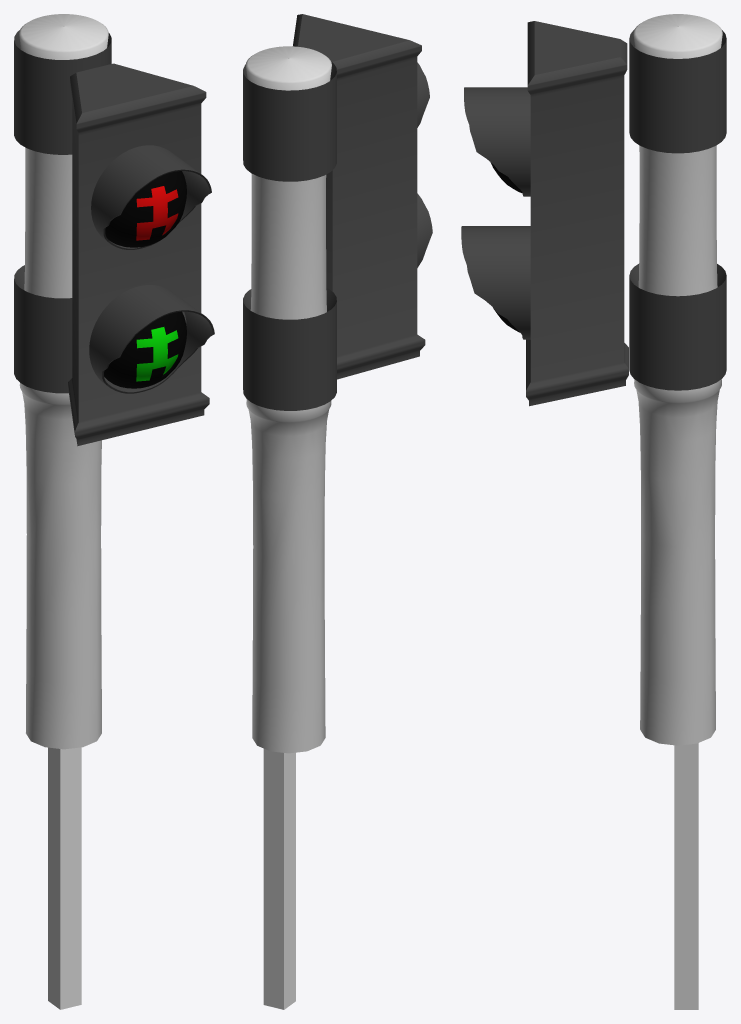
Rendered from pedestrial_light.fbx.
3 views of the same model, side by side, from view 1: azimuth 30°, elevation 25°; view 2: azimuth 150°, elevation 25°; view 3: azimuth 270°, elevation 25° (orthographic). The views are drawn at different scales.
Visible parts, largest first — view 1: nurbsToPoly1, planarTrimmedSurface1 group1, Cube, pTorus3, pTorus2, pCylinder3, pCylinder1, group1 pSphere3, group1 pSphere3.002, group1 pSphere3.001, group1 pSphere1; view 2: nurbsToPoly1, planarTrimmedSurface1 group1, pTorus2, pTorus3, Cube, pCylinder3, pCylinder1; view 3: nurbsToPoly1, planarTrimmedSurface1 group1, pTorus2, pTorus3, Cube, pCylinder3, pCylinder1.
Boxes of the visible parts, x1=… form: nurbsToPoly1: x1=19, y1=14, x2=108, y2=749; planarTrimmedSurface1 group1: x1=68, y1=63, x2=209, y2=446; Cube: x1=48, y1=747, x2=81, y2=1009; pTorus3: x1=14, y1=30, x2=111, y2=154; pTorus2: x1=14, y1=265, x2=72, y2=393; pCylinder3: x1=89, y1=285, x2=214, y2=393; pCylinder1: x1=91, y1=145, x2=211, y2=249; group1 pSphere3: x1=105, y1=171, x2=186, y2=247; group1 pSphere3.002: x1=104, y1=311, x2=186, y2=388; group1 pSphere3.001: x1=136, y1=186, x2=178, y2=240; group1 pSphere1: x1=136, y1=327, x2=178, y2=381; nurbsToPoly1: x1=245, y1=46, x2=331, y2=753; planarTrimmedSurface1 group1: x1=293, y1=14, x2=425, y2=379; pTorus2: x1=243, y1=287, x2=336, y2=410; pTorus3: x1=243, y1=61, x2=336, y2=181; Cube: x1=263, y1=749, x2=295, y2=1009; pCylinder3: x1=417, y1=193, x2=432, y2=267; pCylinder1: x1=417, y1=62, x2=429, y2=127; nurbsToPoly1: x1=633, y1=14, x2=722, y2=745; planarTrimmedSurface1 group1: x1=526, y1=21, x2=628, y2=406; pTorus2: x1=629, y1=263, x2=726, y2=390; pTorus3: x1=629, y1=29, x2=726, y2=153; Cube: x1=674, y1=743, x2=698, y2=1009; pCylinder3: x1=461, y1=226, x2=530, y2=339; pCylinder1: x1=464, y1=87, x2=530, y2=196.
Bounding box in the file's own units: 253 × 1761 × 434.
